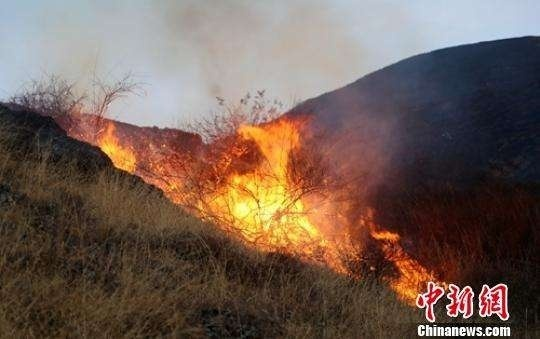fire: (89, 108, 436, 304)
